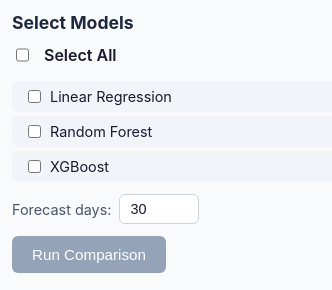
it: ModelSelector › enables run button when a model is selected
This screenshot has width=332, height=290.
Click the text "Linear Regression" at (100, 96), box left=28, top=88, right=172, bottom=105
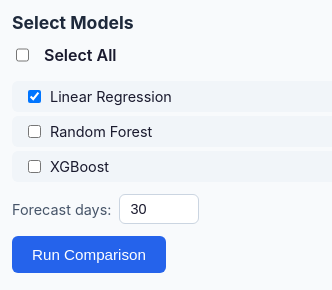
Result: the button "Run Comparison" is enabled at left=12, top=236, right=166, bottom=273
